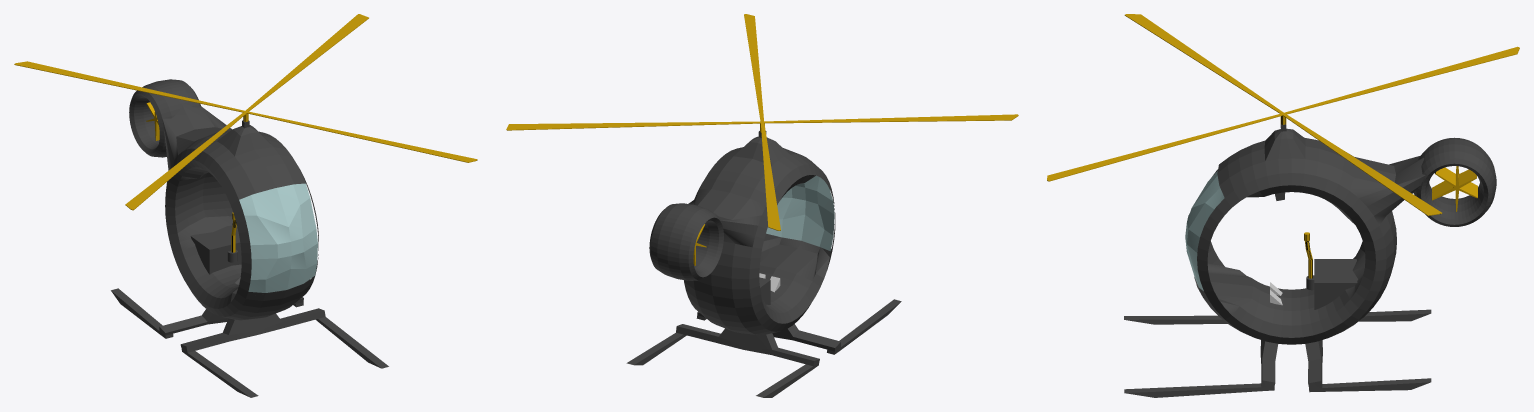
The model's file is helicopter_001.obj.
3 renders of one model, left to right at view 1: azimuth 30°, elevation 25°; view 2: azimuth 150°, elevation 25°; view 3: azimuth 270°, elevation 25°, orthographic. The views are drawn at different scales.
Visible parts, largest first — view 1: object_0_Cube.001__0; view 2: object_0_Cube.001__0; view 3: object_0_Cube.001__0.
Part boxes in pixels (x1,y1,x2,y2): object_0_Cube.001__0: (14,14,477,397); object_0_Cube.001__0: (506,14,1018,397); object_0_Cube.001__0: (1047,14,1519,397).
Bounding box in the file's own units: 5.27 × 3 × 5.22.
1 material, 1 textured.
